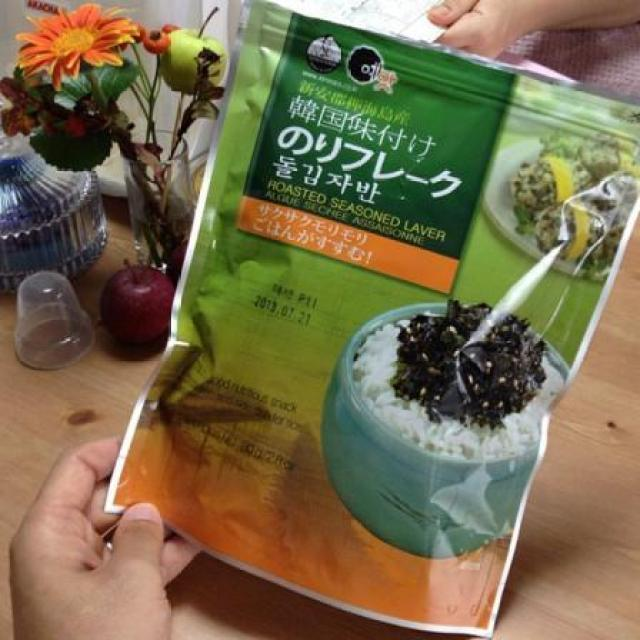Apple: (158, 2, 228, 94), (95, 265, 158, 355)
